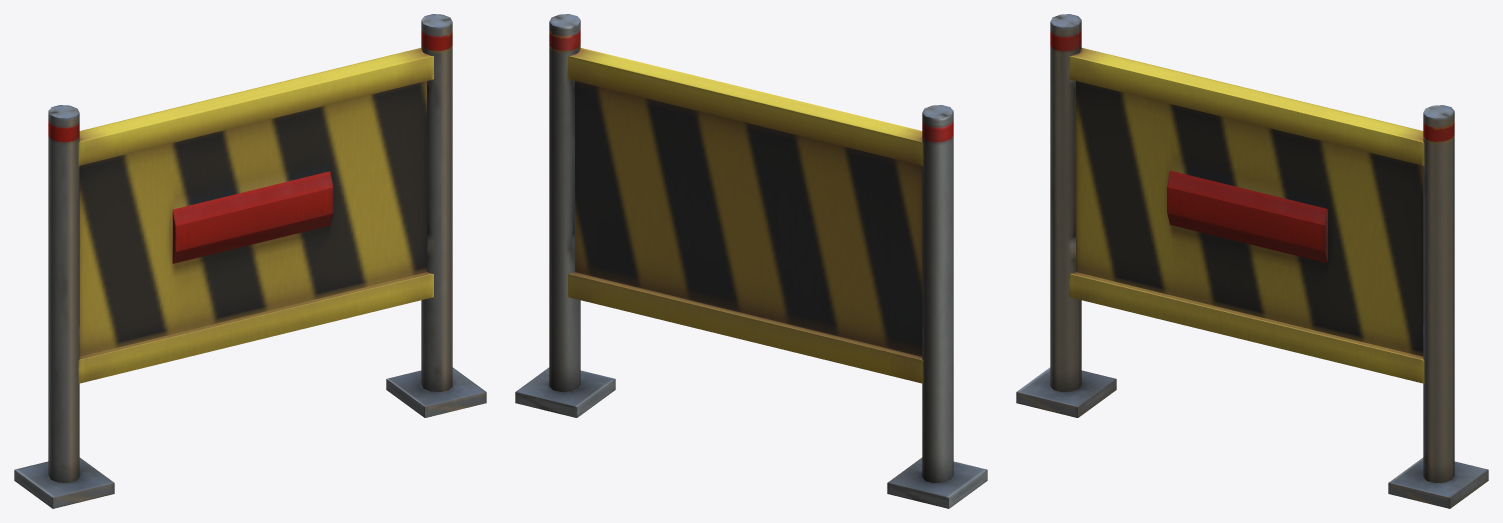
Rendered from Barrier_4.fbx.
3 renders of one model, left to right at view 1: azimuth 30°, elevation 25°; view 2: azimuth 150°, elevation 25°; view 3: azimuth 330°, elevation 25°, orthographic.
Parts seen in each view (by area): view 1: Barrier_4; view 2: Barrier_4; view 3: Barrier_4.
Boxes of the visible parts, left/top/right/bottom form: Barrier_4: left=14, top=14, right=486, bottom=508; Barrier_4: left=515, top=14, right=987, bottom=508; Barrier_4: left=1016, top=14, right=1488, bottom=508.
Size of the model in its own units: 196 by 162 by 30.12.
